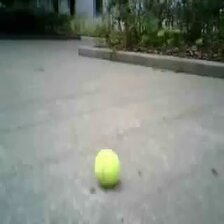tennis: (95, 149, 121, 186)
